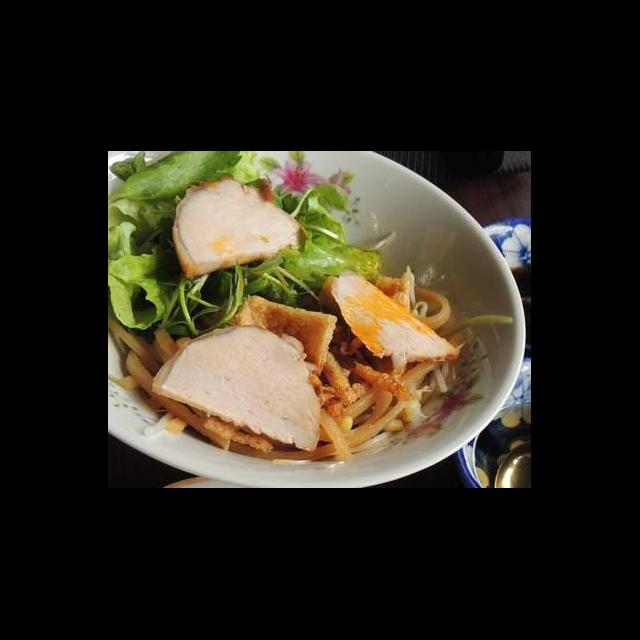banh da: (227, 294, 341, 384), (342, 330, 416, 406), (318, 268, 414, 322), (304, 348, 372, 423)
mi: (314, 358, 450, 466), (110, 307, 200, 398), (410, 284, 454, 334)
mi quang: (110, 174, 532, 488)
thit heo: (150, 322, 324, 456), (166, 172, 310, 282), (328, 264, 463, 366)
